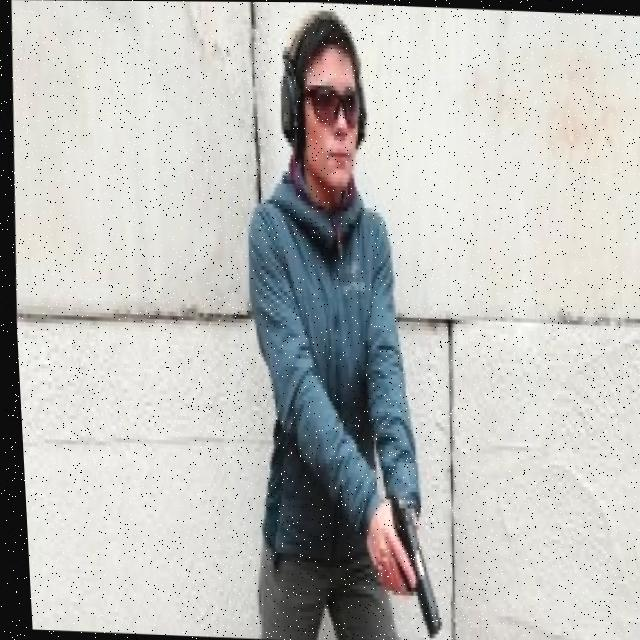pistol: (387, 504, 439, 638)
